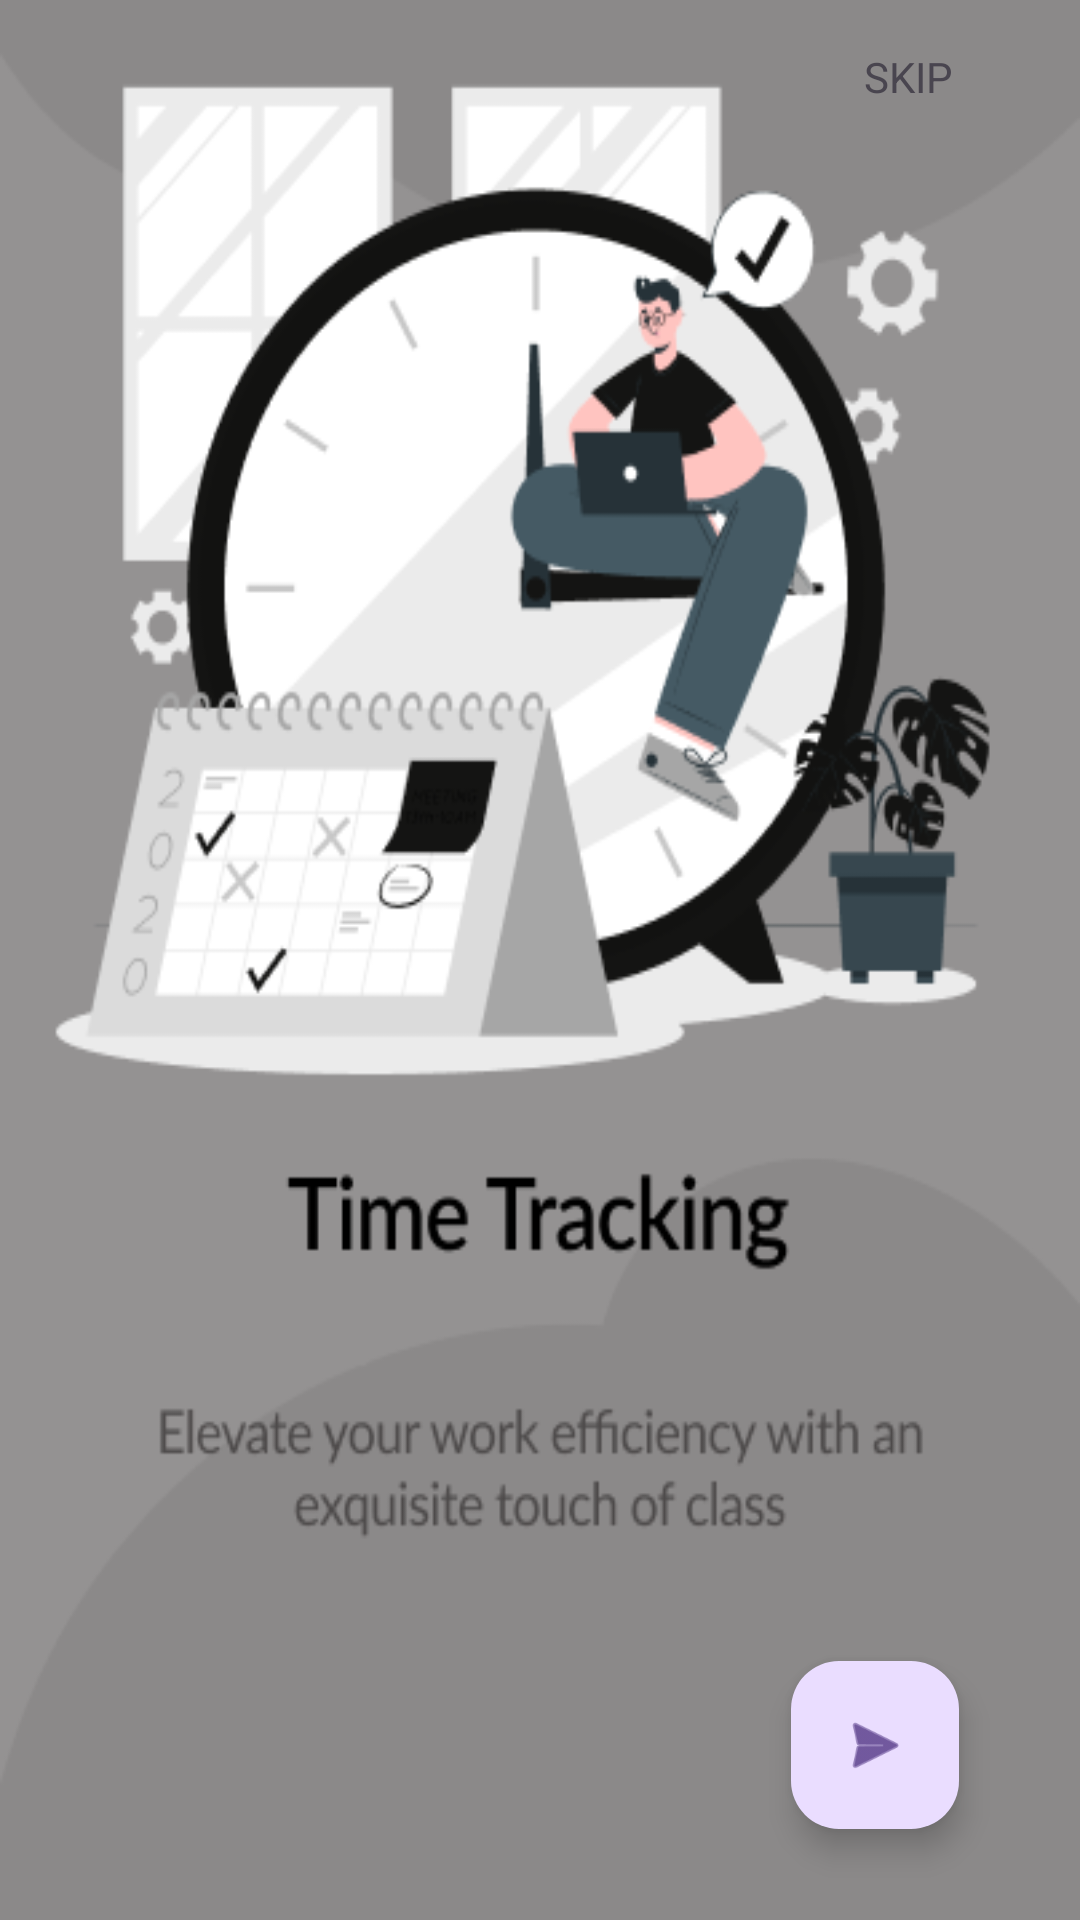

Where to tap for icons on this 1080×1920 app screen, as [x,y]:
Next: [875,1745]
